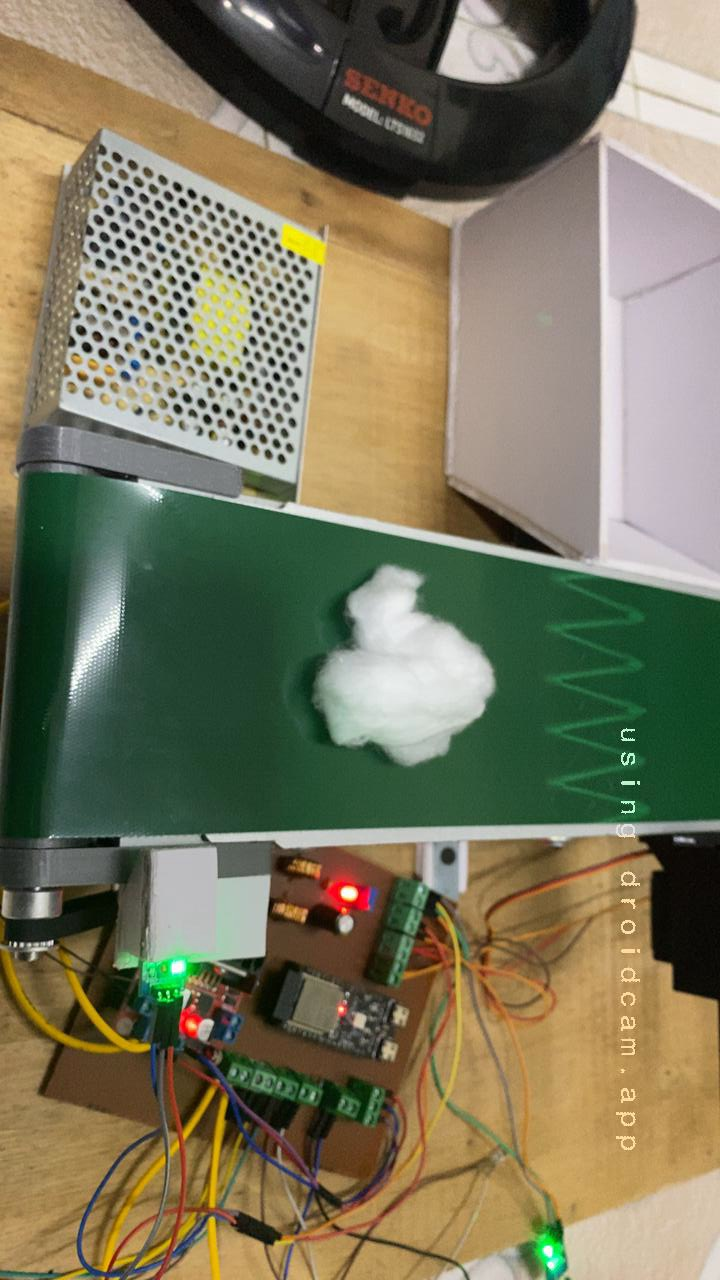cotton: (282, 549, 520, 783)
